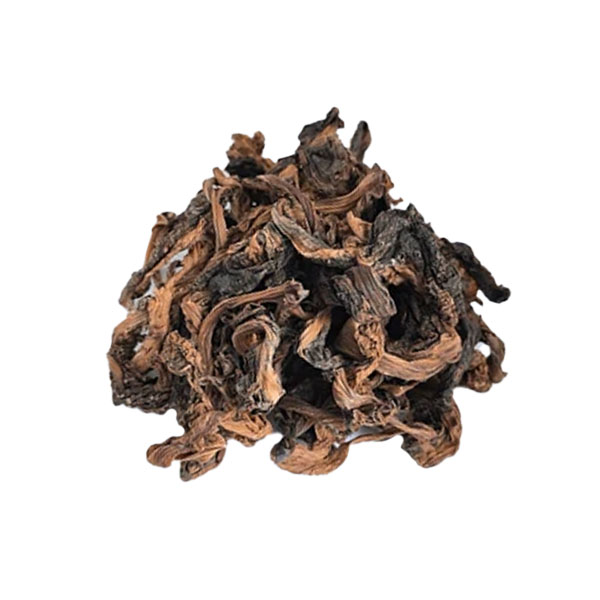gundruk: (110, 133, 516, 481)
